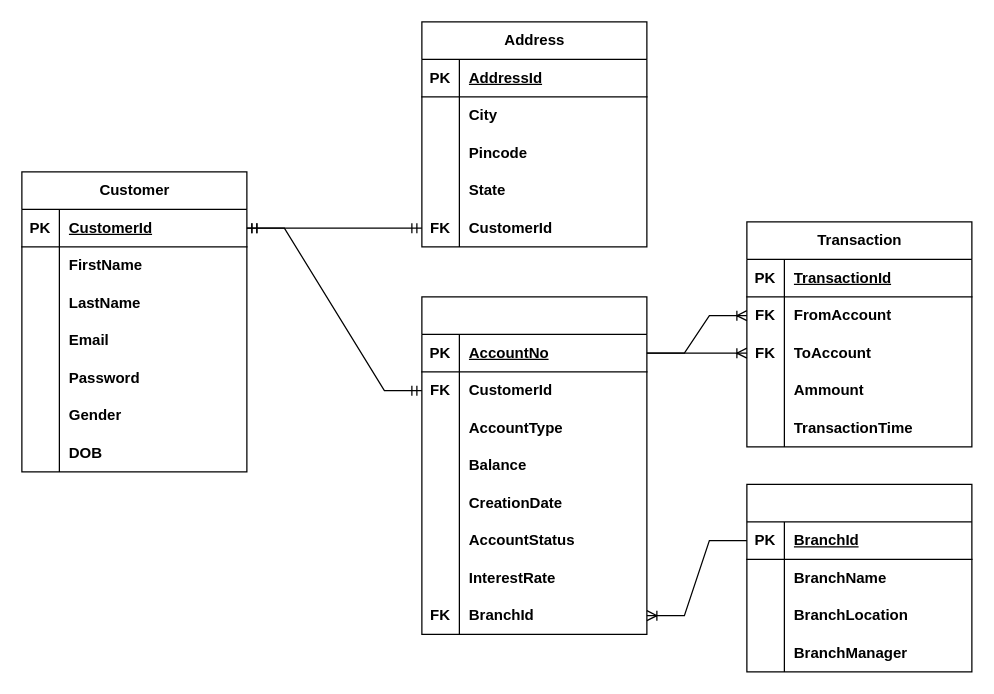
Some shapes in this 994 by 694 pixel diagram are drawn without their labels. Here are the shapes that lost their labels. From the top down, the box of each, then its label:
(421, 296, 647, 634): BankAccount
(746, 483, 972, 672): BankBranch
